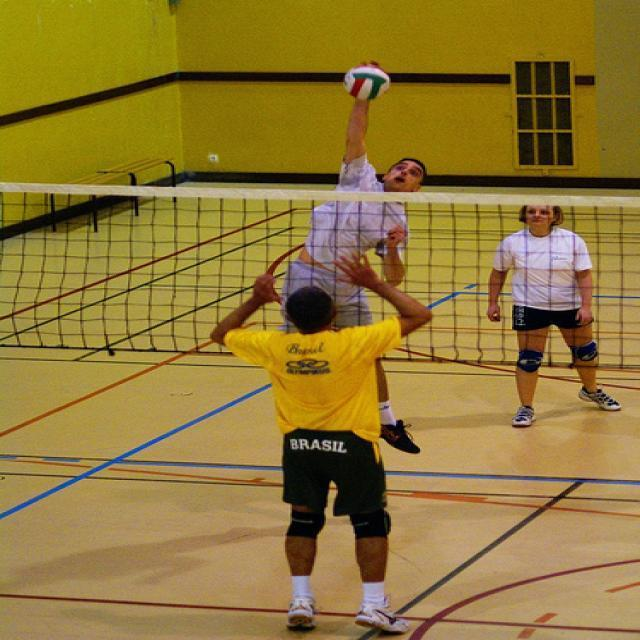volleyball: (344, 64, 388, 102)
